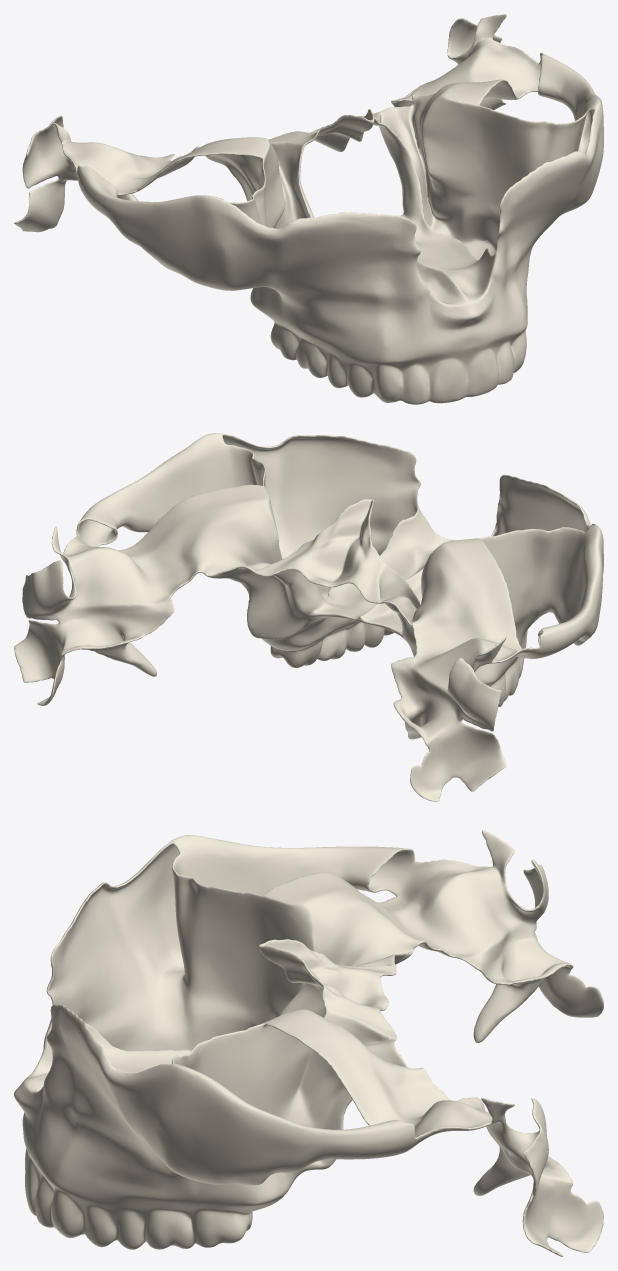
File: maxilla.glb
The picture shows the model from 3 angles, top to bottom: view 1: azimuth 30°, elevation 25°; view 2: azimuth 150°, elevation 25°; view 3: azimuth 270°, elevation 25°; orthographic projection. The views are drawn at different scales.
Parts seen in each view (by area): view 1: bone.maxilla; view 2: bone.maxilla; view 3: bone.maxilla.
Boxes of the visible parts, <box> form: bone.maxilla: <box>14,14,603,404</box>; bone.maxilla: <box>14,433,603,801</box>; bone.maxilla: <box>14,830,603,1256</box>.
Size of the model in its own units: 0.1345 by 0.0552 by 0.1147.
